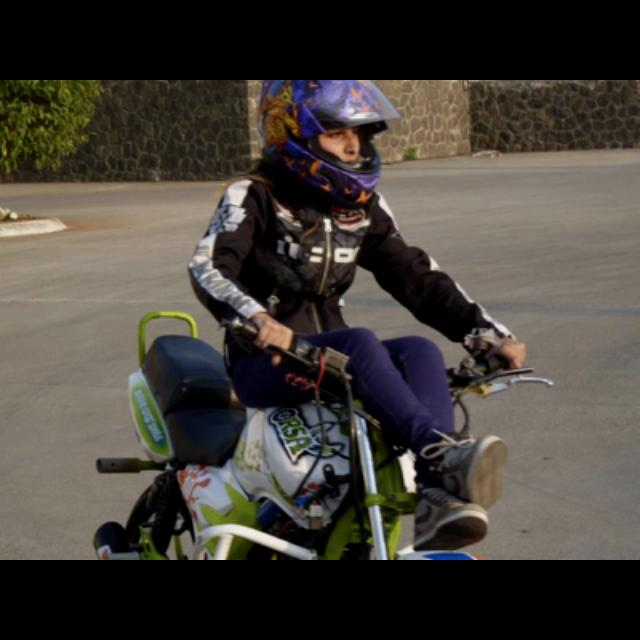With Helmet: (256, 80, 402, 210)
